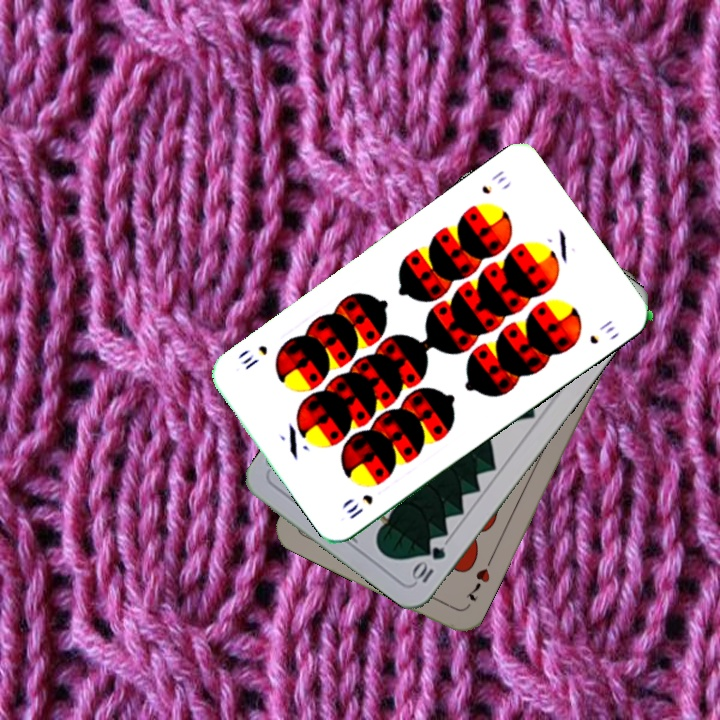G10: (407, 542, 449, 586)
H7: (462, 564, 493, 605)
S10: (342, 490, 376, 522), (478, 166, 510, 197)
